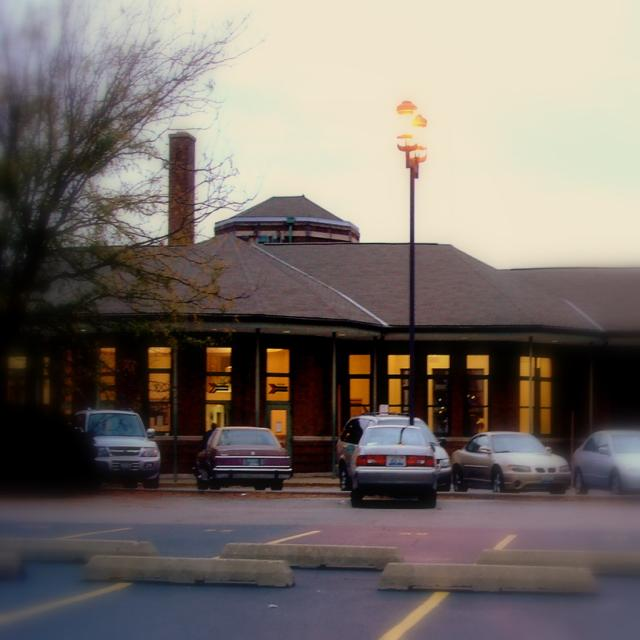car: (67, 397, 163, 491), (450, 424, 571, 495), (192, 418, 294, 491), (349, 419, 437, 498), (570, 425, 639, 489)
